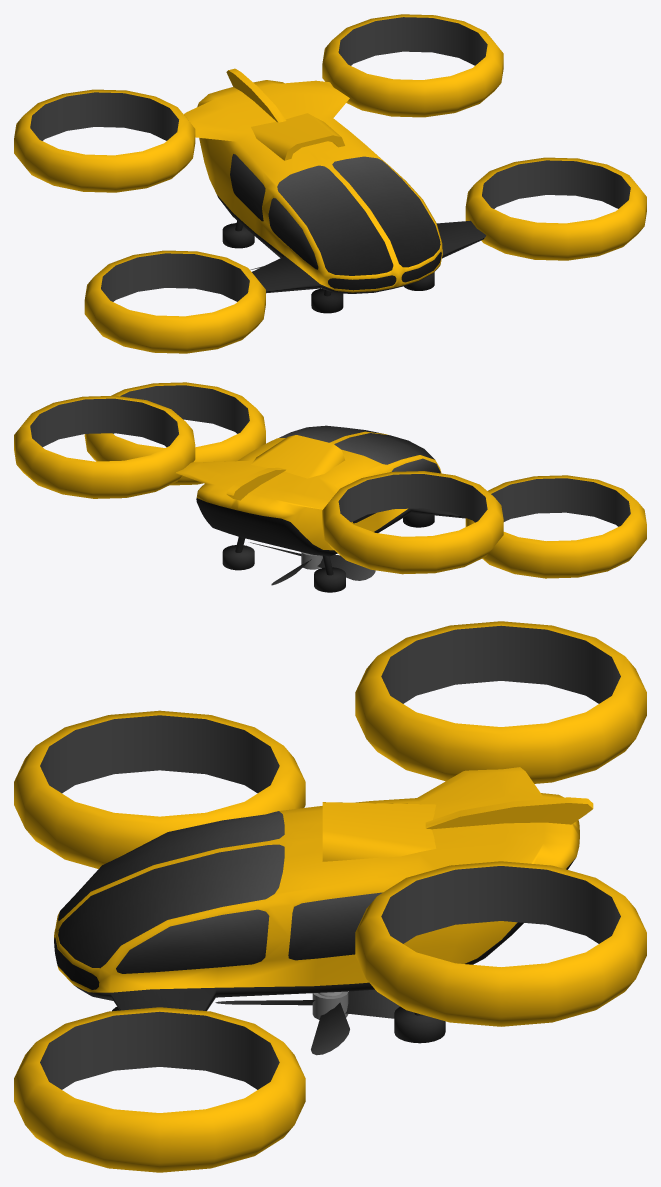
The model's file is props.fbx.
3 views of the same model, one above another, from view 1: azimuth 30°, elevation 25°; view 2: azimuth 150°, elevation 25°; view 3: azimuth 270°, elevation 25° (orthographic). The views are drawn at different scales.
Visible parts, largest first — view 1: pCube1; view 2: pCube1, pCube2; view 3: pCube1, pCube2.
Part boxes in pixels (x1=…): pCube1: x1=14, y1=14, x2=646, y2=353; pCube1: x1=14, y1=382, x2=646, y2=592; pCube2: x1=250, y1=542, x2=375, y2=585; pCube1: x1=14, y1=621, x2=646, y2=1172; pCube2: x1=215, y1=989, x2=399, y2=1055.
Size of the model in its own units: 132 by 31.92 by 84.16.
